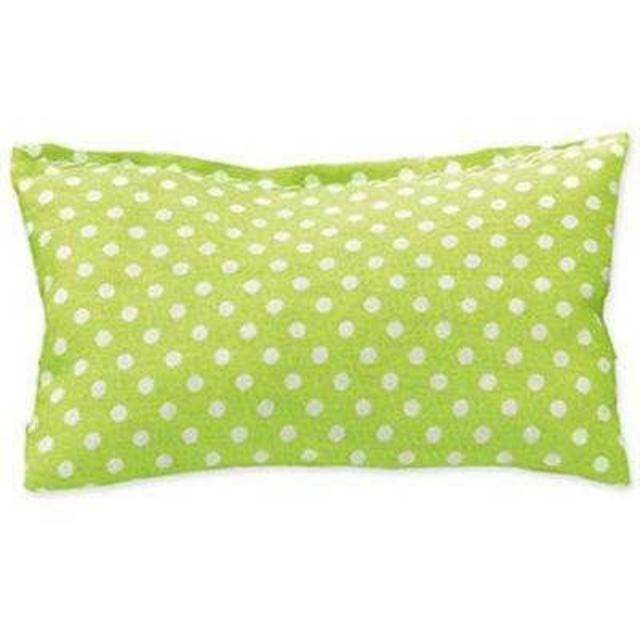pillow: (9, 128, 634, 492)
